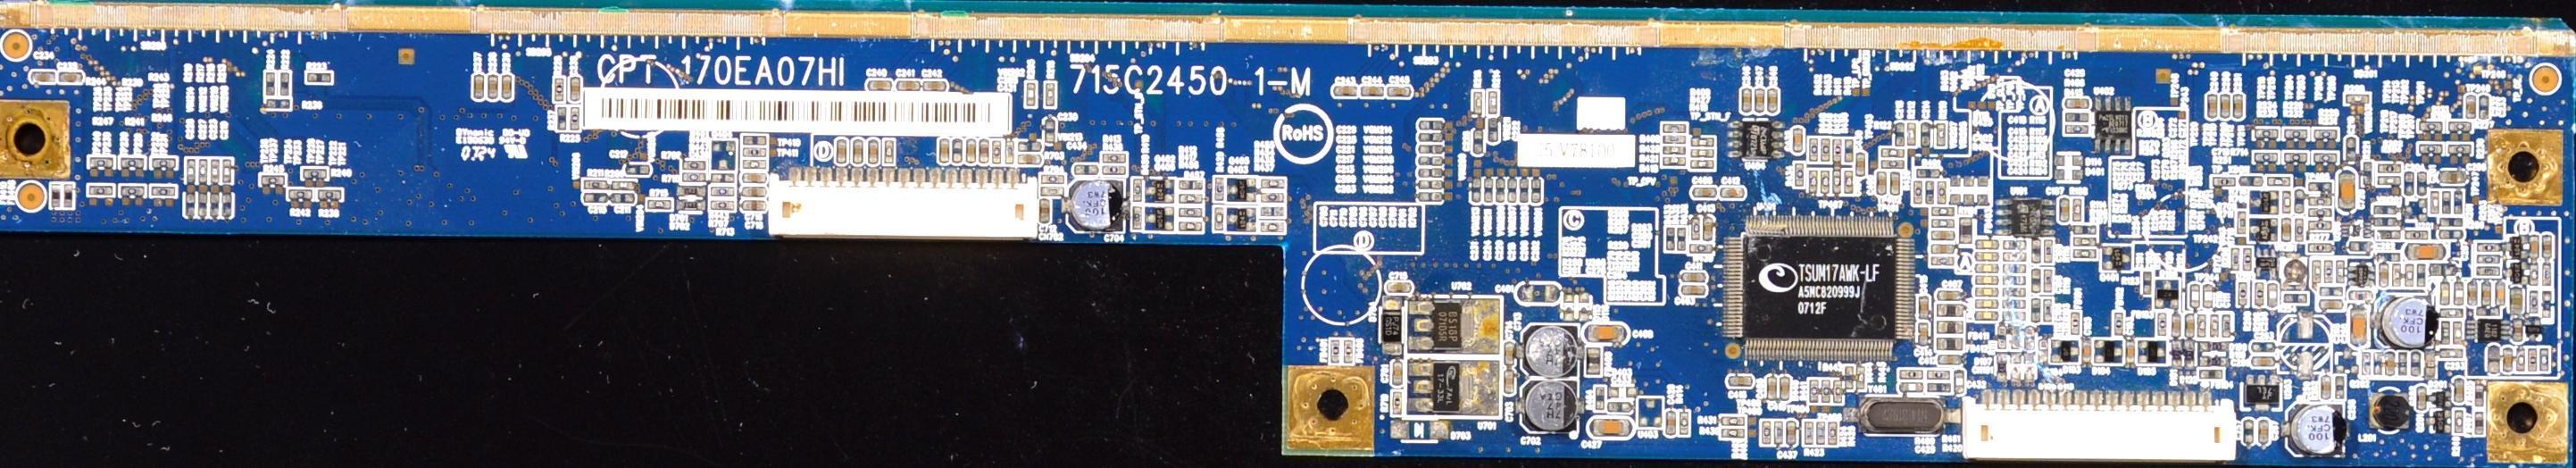Capacitor: (2339, 172, 2355, 210), (1521, 286, 1557, 302), (2351, 312, 2366, 347), (1588, 326, 1624, 342), (1593, 420, 1630, 436), (2411, 244, 2442, 259), (1334, 84, 1358, 96), (2439, 172, 2465, 184), (1387, 280, 1413, 293), (1937, 290, 1963, 302), (2321, 375, 2332, 400), (30, 71, 55, 83), (2478, 96, 2488, 120), (1855, 153, 1867, 177), (1877, 171, 1888, 195), (2280, 217, 2292, 242), (2378, 263, 2389, 288), (2502, 348, 2513, 372), (1360, 86, 1384, 96), (1044, 118, 1055, 141), (1018, 140, 1041, 152), (867, 141, 879, 164), (1721, 187, 1744, 198), (612, 194, 635, 205), (1038, 198, 1049, 222), (2466, 282, 2477, 305), (2511, 290, 2522, 314), (1504, 371, 1515, 395), (868, 80, 891, 92), (1793, 128, 1802, 154), (1418, 145, 1444, 155), (1418, 156, 1445, 165), (1418, 167, 1444, 177), (2440, 281, 2450, 306), (2480, 281, 2490, 307), (2319, 299, 2345, 308), (2125, 339, 2135, 366), (58, 73, 83, 84), (2206, 95, 2217, 117), (2059, 198, 2071, 221), (1919, 297, 1930, 319), (1387, 87, 1411, 96), (1741, 88, 1752, 113), (1768, 88, 1778, 113), (1418, 121, 1442, 130), (939, 138, 950, 163), (980, 139, 988, 163), (1016, 155, 1041, 165), (1496, 177, 1505, 202), (1519, 178, 1528, 202), (1531, 178, 1541, 203), (742, 188, 767, 197), (1681, 272, 1705, 282), (2032, 269, 2042, 294), (2496, 283, 2505, 306), (2031, 298, 2040, 323), (1975, 311, 1999, 320), (1920, 323, 1930, 347), (2440, 349, 2464, 359), (1393, 363, 1403, 387), (1607, 403, 1631, 412), (1666, 411, 1676, 435), (1786, 420, 1796, 445), (1415, 133, 1443, 141), (571, 77, 580, 101), (2065, 98, 2088, 109), (2465, 96, 2475, 118), (1921, 122, 1930, 146), (1897, 123, 1905, 146), (1474, 131, 1483, 155), (2346, 138, 2355, 161), (1891, 172, 1901, 196), (1484, 179, 1493, 202), (1472, 179, 1481, 203), (1931, 230, 1955, 240), (1931, 244, 1955, 254), (1975, 252, 1998, 262), (1974, 263, 1998, 272), (1975, 288, 1998, 297), (2190, 284, 2199, 306), (2204, 286, 2213, 309), (1505, 343, 1514, 366), (2252, 358, 2276, 367), (1900, 381, 1924, 391), (1780, 376, 1789, 399), (2244, 421, 2255, 443), (897, 80, 920, 90), (922, 80, 945, 91), (474, 75, 485, 99), (502, 75, 512, 99), (584, 192, 609, 201), (2221, 95, 2230, 117), (1976, 240, 1998, 249), (2542, 236, 2552, 258), (1976, 276, 1998, 285), (2186, 315, 2195, 336), (2514, 321, 2523, 341), (2385, 353, 2396, 374), (1730, 377, 1751, 387), (1955, 371, 1965, 393), (1767, 377, 1777, 398), (2259, 422, 2269, 444), (488, 76, 498, 97), (1755, 89, 1764, 113), (838, 140, 846, 164), (854, 140, 863, 163), (1508, 178, 1517, 202), (1693, 188, 1716, 197), (1419, 192, 1444, 201), (2032, 239, 2041, 264), (1680, 286, 1705, 294), (1938, 355, 1963, 364), (968, 140, 976, 163), (743, 173, 766, 183), (1419, 180, 1443, 189), (742, 202, 765, 211), (2530, 236, 2538, 259), (2269, 284, 2278, 307), (2172, 315, 2180, 338), (2234, 95, 2242, 117), (627, 165, 649, 174), (1704, 219, 1712, 239), (2083, 341, 2092, 364), (2455, 380, 2463, 403), (2418, 387, 2426, 409), (1975, 300, 1997, 307)
Connector: (1963, 389, 2238, 468), (771, 165, 1042, 245)
IC: (1724, 221, 1915, 356), (1409, 356, 1502, 414), (1412, 299, 1501, 356), (1998, 196, 2051, 239), (1730, 119, 1786, 160), (2097, 96, 2130, 155), (2245, 373, 2279, 413)
Resistor: (318, 188, 343, 202), (1178, 193, 1203, 205), (1826, 422, 1838, 447), (261, 173, 288, 185), (287, 187, 313, 198), (1261, 194, 1284, 205), (710, 199, 734, 210), (2255, 129, 2277, 139), (712, 186, 735, 197), (308, 71, 331, 83), (2419, 121, 2444, 132), (680, 172, 706, 182), (1179, 221, 1204, 230), (1261, 222, 1286, 231), (2254, 283, 2264, 308), (2065, 113, 2090, 122), (2065, 124, 2089, 134), (1663, 135, 1687, 145), (2419, 145, 2443, 155), (1690, 148, 1715, 158), (1689, 160, 1713, 169), (2378, 164, 2402, 173), (304, 167, 329, 178), (1915, 168, 1940, 177), (1179, 180, 1203, 190), (1938, 181, 1947, 205), (647, 199, 672, 209), (1179, 207, 1202, 216), (2404, 230, 2429, 239), (2043, 270, 2053, 294), (2239, 282, 2248, 307), (1722, 416, 1746, 425), (1720, 428, 1745, 439), (1026, 83, 1035, 107), (2346, 93, 2370, 104), (569, 107, 579, 130), (557, 106, 567, 130), (2448, 121, 2472, 132), (1663, 123, 1687, 133), (1936, 123, 1946, 146), (2285, 130, 2308, 139), (1833, 139, 1843, 163), (2313, 153, 2336, 163), (1795, 163, 1804, 187), (1040, 173, 1063, 184), (2378, 176, 2401, 185), (585, 180, 607, 190), (1041, 187, 1064, 196), (1925, 180, 1935, 204), (1913, 181, 1924, 204), (2073, 199, 2083, 221), (1261, 206, 1283, 216), (1678, 226, 1687, 250), (2073, 248, 2096, 258), (2044, 299, 2053, 322), (1928, 370, 1950, 380), (1928, 382, 1950, 392), (1809, 380, 1818, 404), (1596, 388, 1605, 410), (2455, 410, 2464, 433), (1679, 412, 1688, 436), (1805, 421, 1815, 444), (264, 73, 274, 96), (280, 73, 290, 96), (2072, 238, 2097, 247), (1473, 91, 1483, 112), (2315, 130, 2337, 139), (2447, 144, 2470, 155), (684, 161, 704, 171), (613, 181, 635, 190), (1214, 208, 1223, 230), (1690, 244, 1713, 254), (2143, 272, 2152, 295), (1833, 380, 1844, 403), (1816, 422, 1825, 444), (1046, 82, 1055, 106), (1488, 91, 1497, 115), (1662, 157, 1685, 165), (1833, 170, 1841, 194), (1821, 171, 1829, 195), (2308, 243, 2333, 252), (1691, 138, 1713, 146), (1810, 138, 1819, 161), (1663, 146, 1688, 155), (1881, 149, 1904, 157), (2284, 153, 2306, 162), (1881, 160, 1905, 168), (1102, 166, 1125, 174), (712, 173, 734, 183), (1845, 171, 1853, 194), (1262, 180, 1285, 189), (1215, 177, 1224, 200), (1692, 217, 1700, 240), (2044, 240, 2052, 263), (1822, 380, 1830, 404), (1393, 393, 1402, 415), (1907, 122, 1915, 145), (1822, 138, 1830, 160), (2255, 154, 2278, 163), (1104, 154, 1126, 163), (1808, 171, 1817, 192), (1667, 228, 1675, 249), (1901, 371, 1922, 379), (2072, 226, 2097, 234), (554, 79, 563, 101)
Transistor: (1228, 177, 1256, 205), (1225, 206, 1257, 232), (2102, 244, 2133, 268), (1145, 177, 1173, 204), (2248, 188, 2277, 215), (1145, 205, 1175, 230), (2250, 218, 2280, 243), (2158, 278, 2180, 308), (2052, 339, 2082, 362), (2095, 342, 2124, 364), (2138, 337, 2160, 363)
